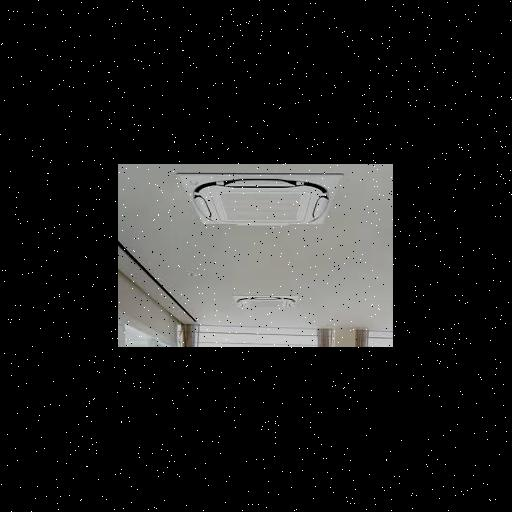4-way-ac: (175, 173, 345, 228), (234, 296, 302, 310)
